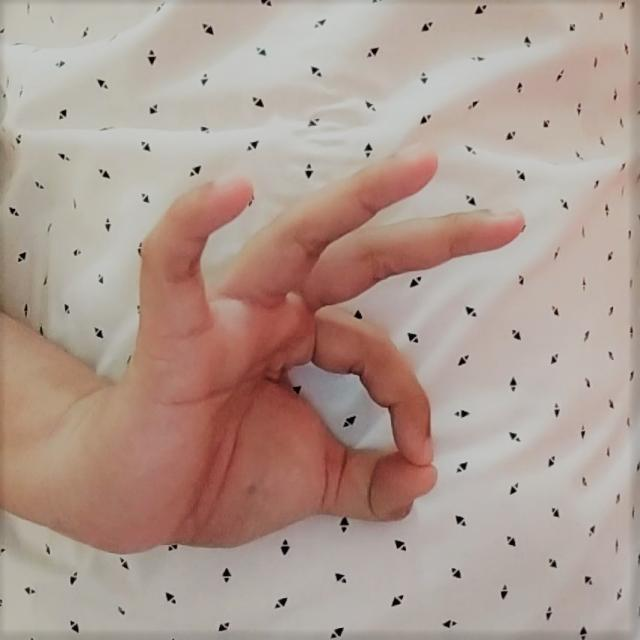O: (122, 147, 534, 555)
